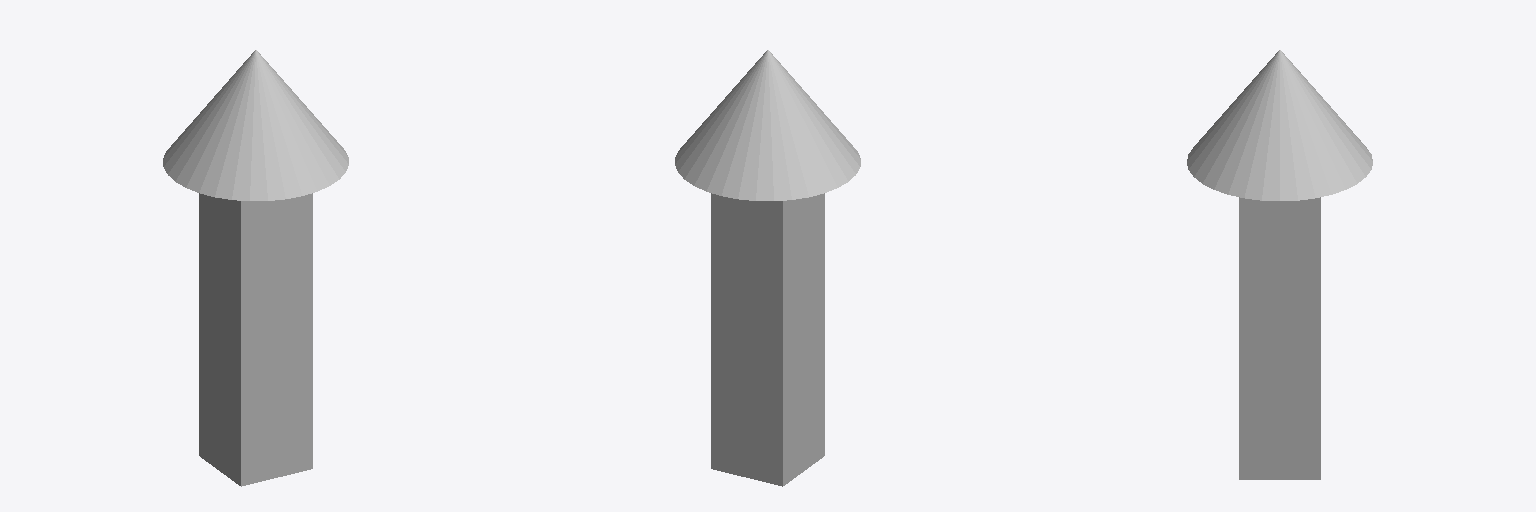
File: Z-Axis-Pointer.obj
The picture shows the model from 3 angles: view 1: azimuth 30°, elevation 25°; view 2: azimuth 150°, elevation 25°; view 3: azimuth 270°, elevation 25°; orthographic projection.
Parts seen in each view (by area): view 1: Z-Axis-Pointer_Cube.001; view 2: Z-Axis-Pointer_Cube.001; view 3: Z-Axis-Pointer_Cube.001.
Boxes of the visible parts, box(x1,y1,x2,y2) form: Z-Axis-Pointer_Cube.001: box(163, 50, 348, 486); Z-Axis-Pointer_Cube.001: box(675, 50, 860, 486); Z-Axis-Pointer_Cube.001: box(1187, 50, 1372, 479).
Bounding box in the file's own units: 1.12 × 2.75 × 1.12.